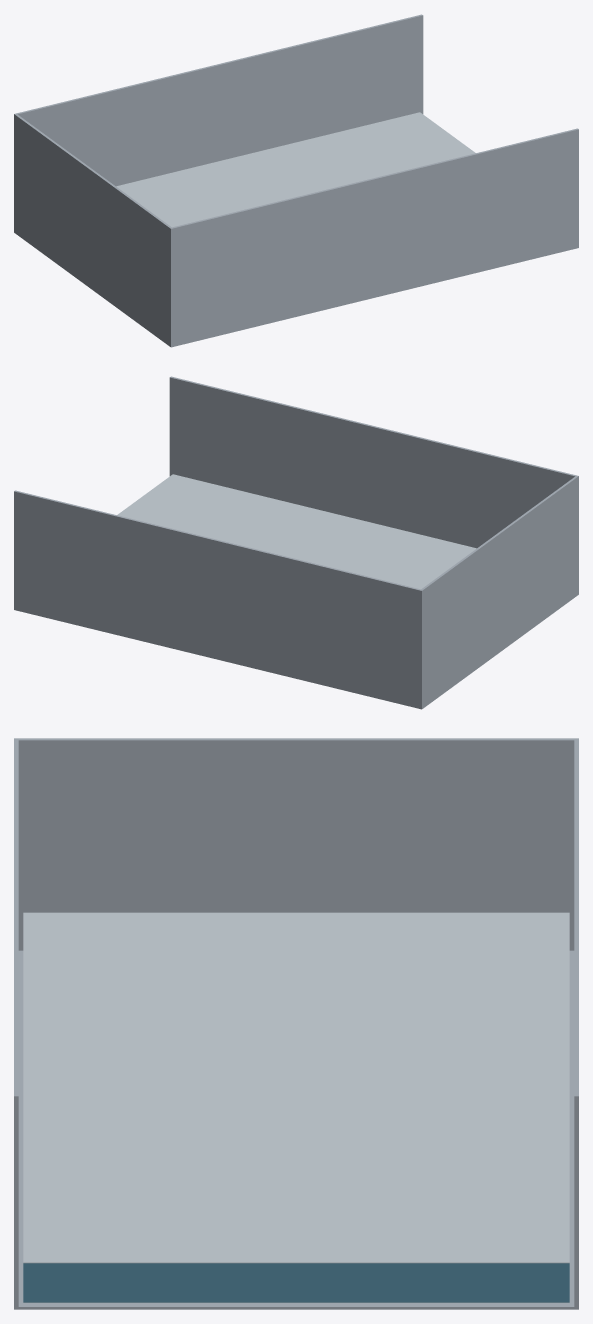
File: counterweight_unit.glb
3 renders of one model, top to bottom at view 1: azimuth 30°, elevation 25°; view 2: azimuth 150°, elevation 25°; view 3: azimuth 270°, elevation 25°, orthographic. The views are drawn at different scales.
Parts seen in each view (by area): view 1: counterweight_unit; view 2: counterweight_unit; view 3: counterweight_unit.
Boxes of the visible parts, x1,y1,x2,y2 form: counterweight_unit: (14,14,578,347); counterweight_unit: (14,376,578,709); counterweight_unit: (14,738,578,1309).
Size of the model in its own units: 1 by 0.2778 by 0.6667.
